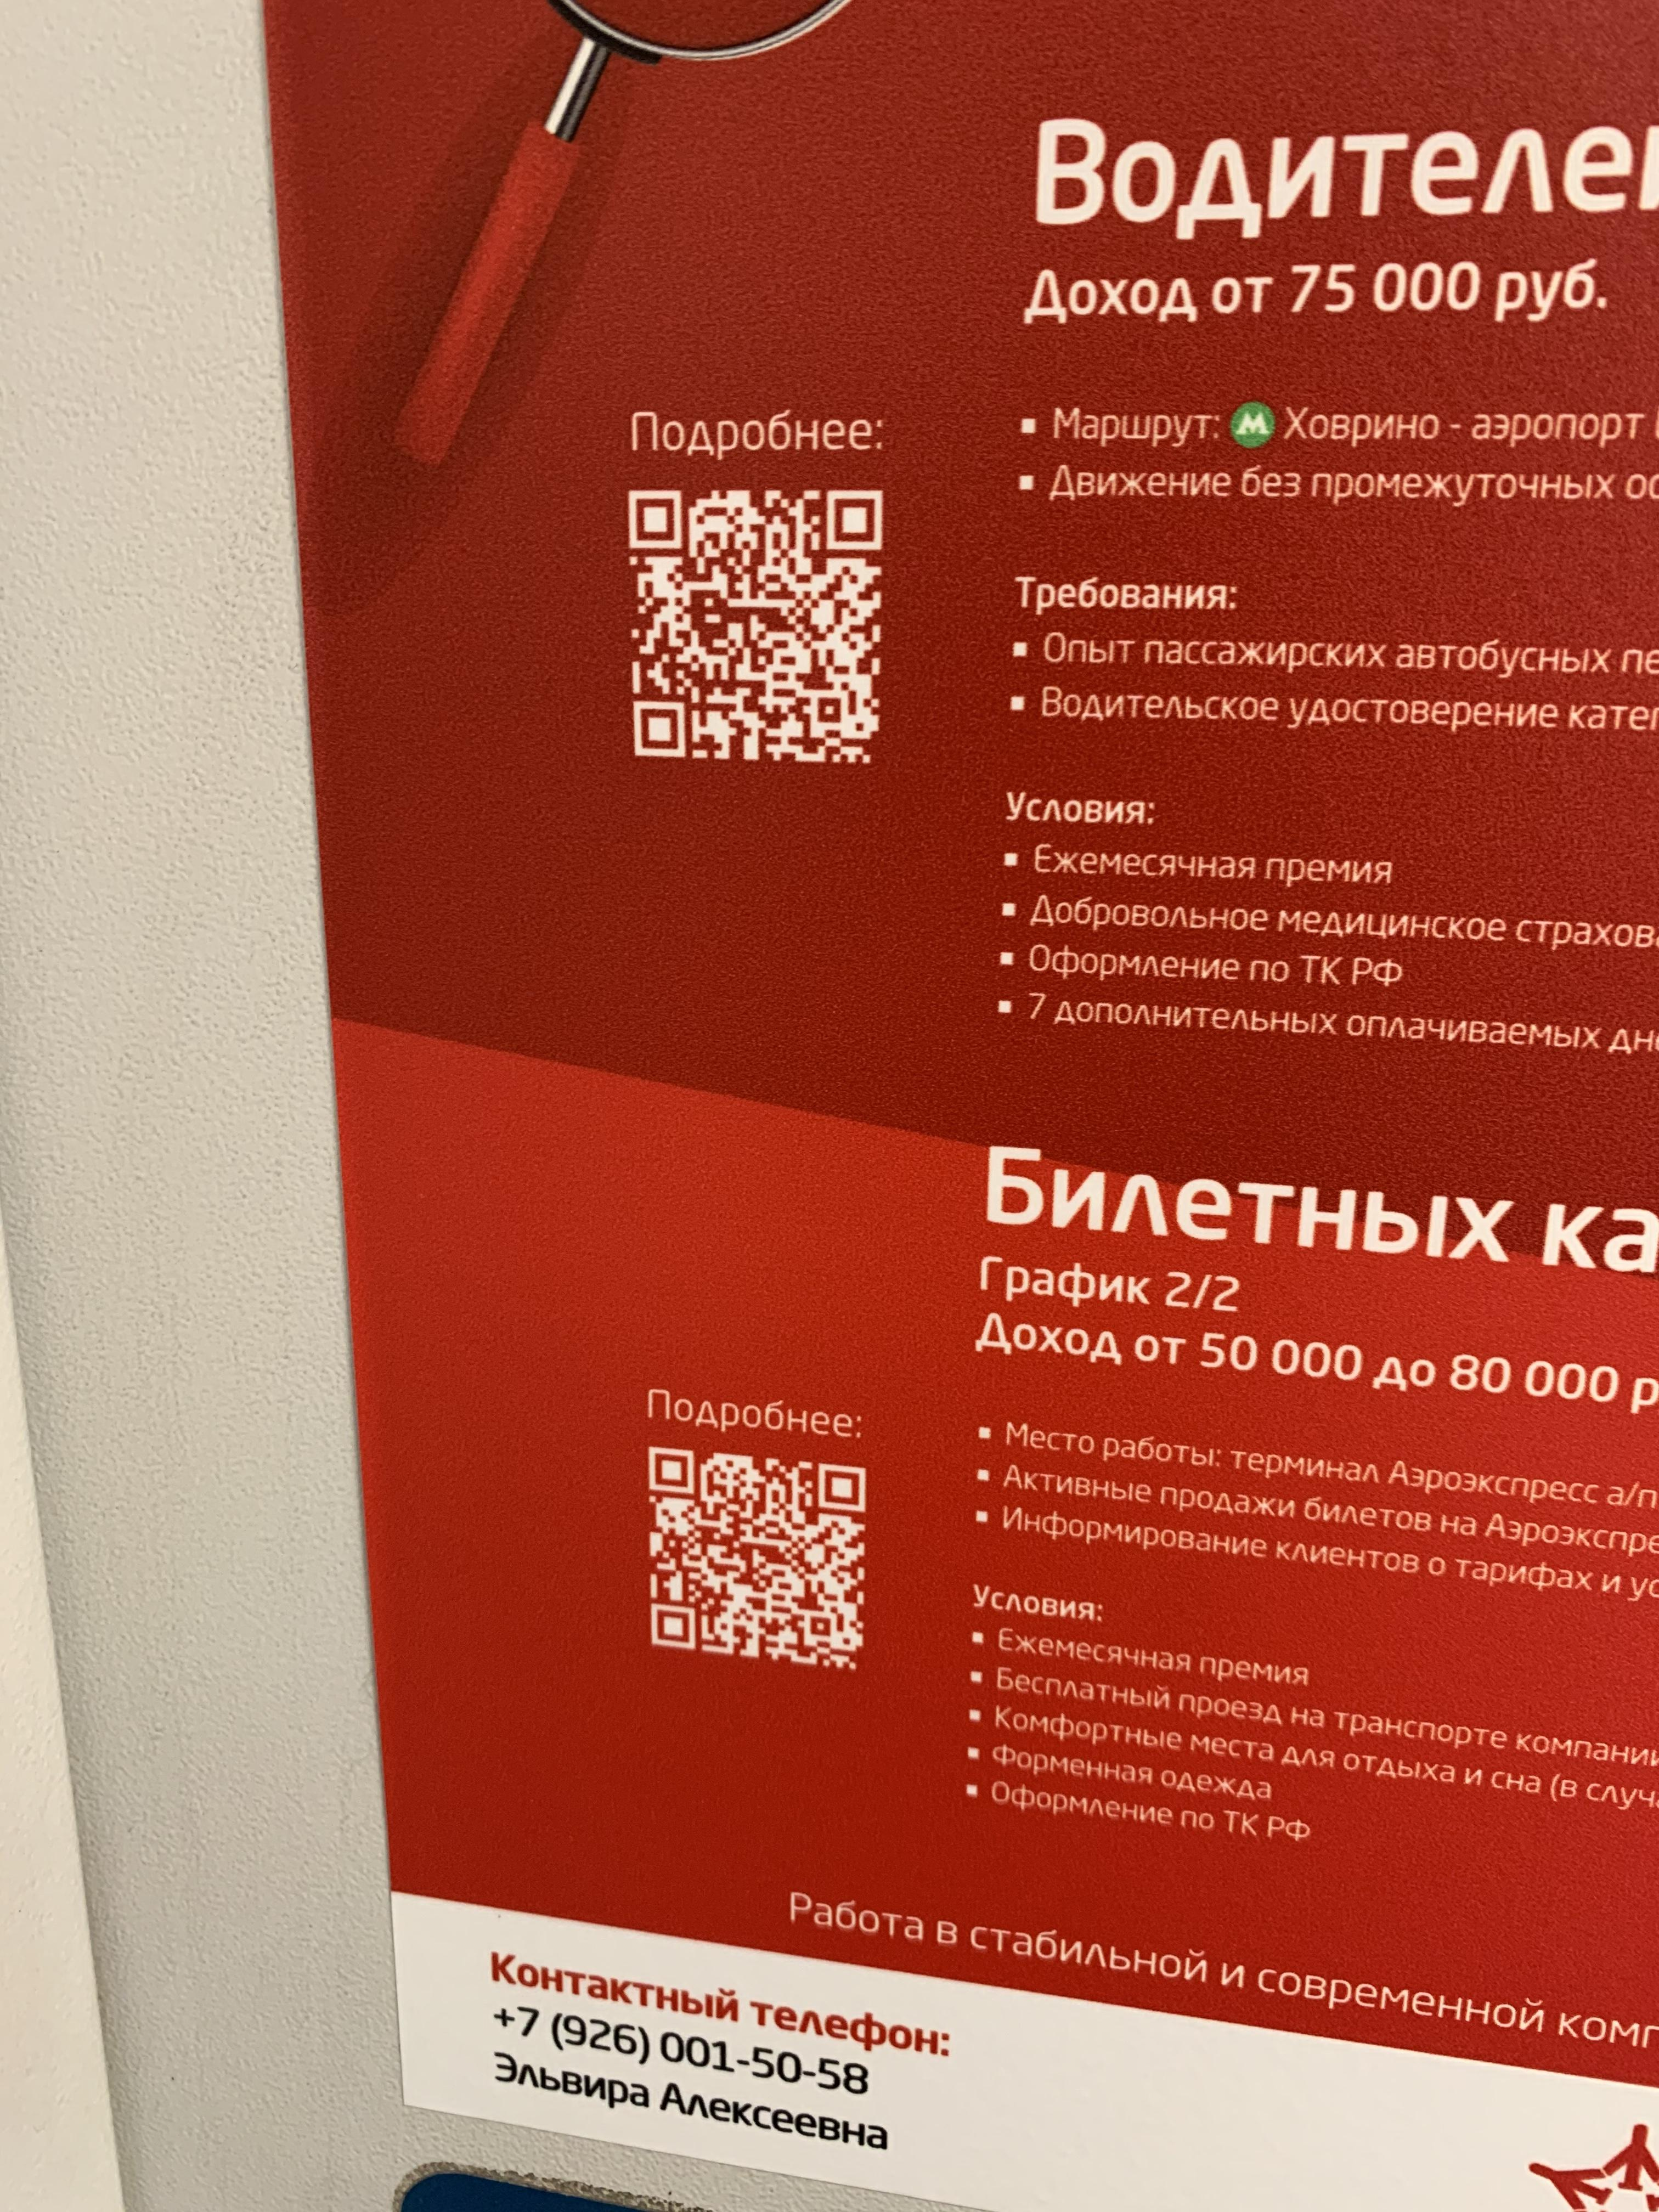qrcode: (629, 491, 884, 763), (645, 1444, 870, 1674)
